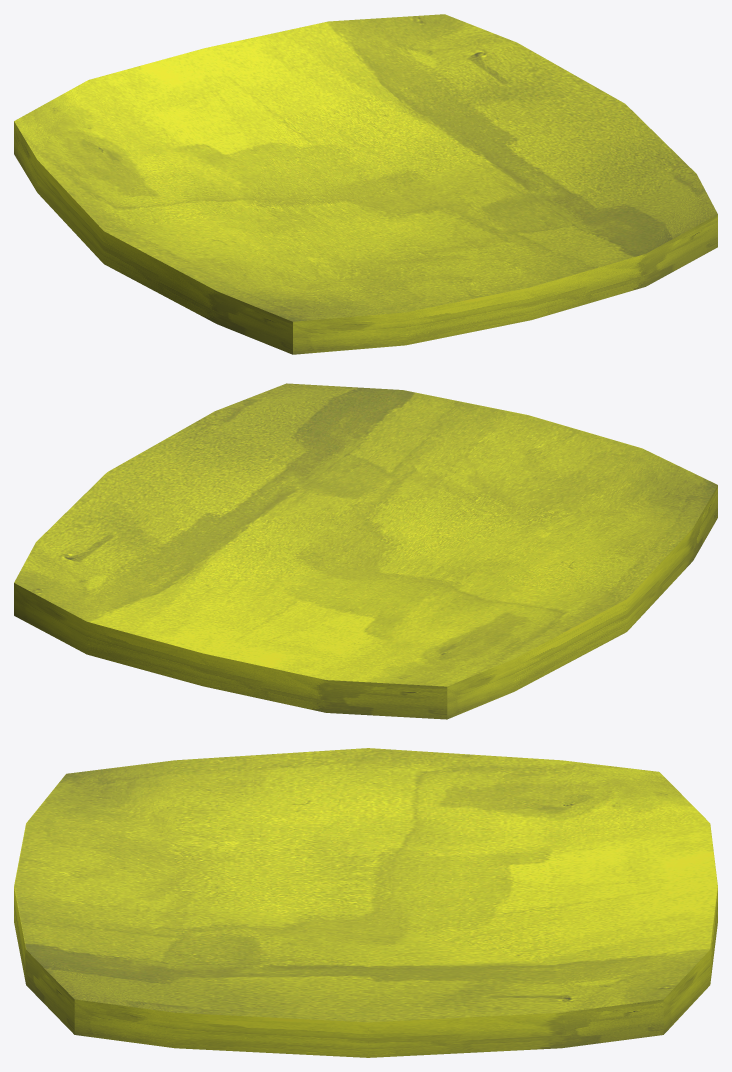
Rendered from geel platform.FBX.
The picture shows the model from 3 angles, top to bottom: view 1: azimuth 30°, elevation 25°; view 2: azimuth 150°, elevation 25°; view 3: azimuth 270°, elevation 25°; orthographic projection. The views are drawn at different scales.
Parts seen in each view (by area): view 1: Box006; view 2: Box006; view 3: Box006.
Part boxes in pixels (x1,y1,x2,y2): Box006: (14,14,717,354); Box006: (14,383,717,719); Box006: (14,748,717,1057).
Bounding box in the file's own units: 306 × 37.96 × 332.
